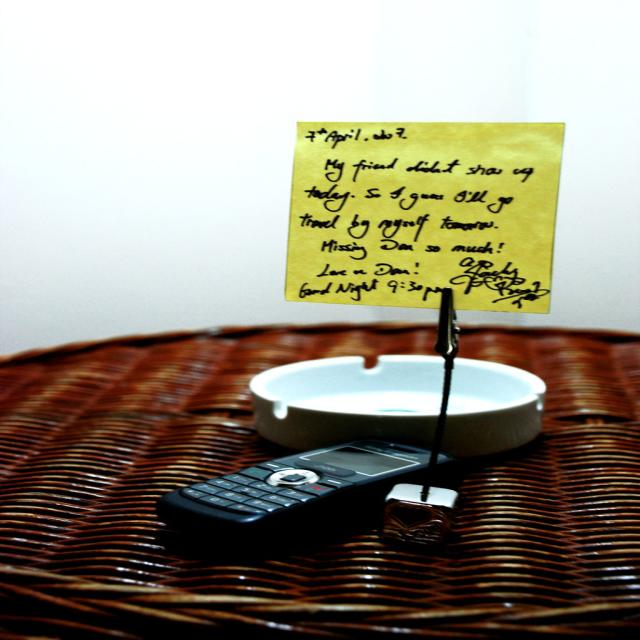Mobile-phone: (163, 430, 482, 550)
